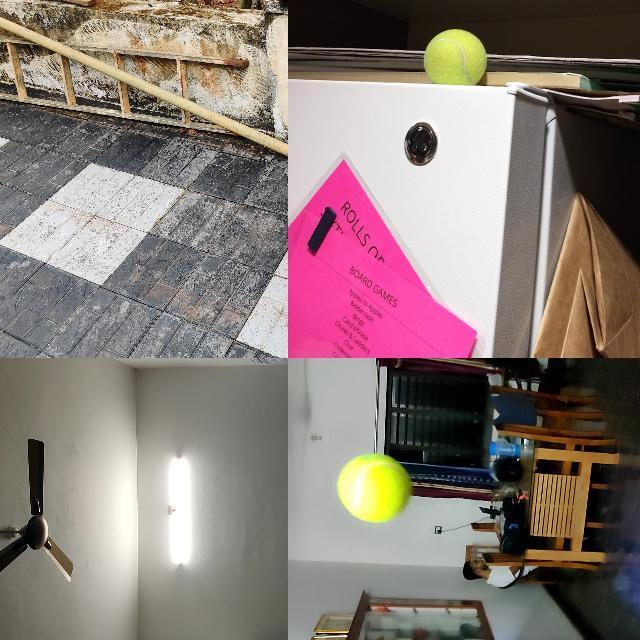tennis-ball: (336, 454, 412, 523), (423, 28, 487, 83)
